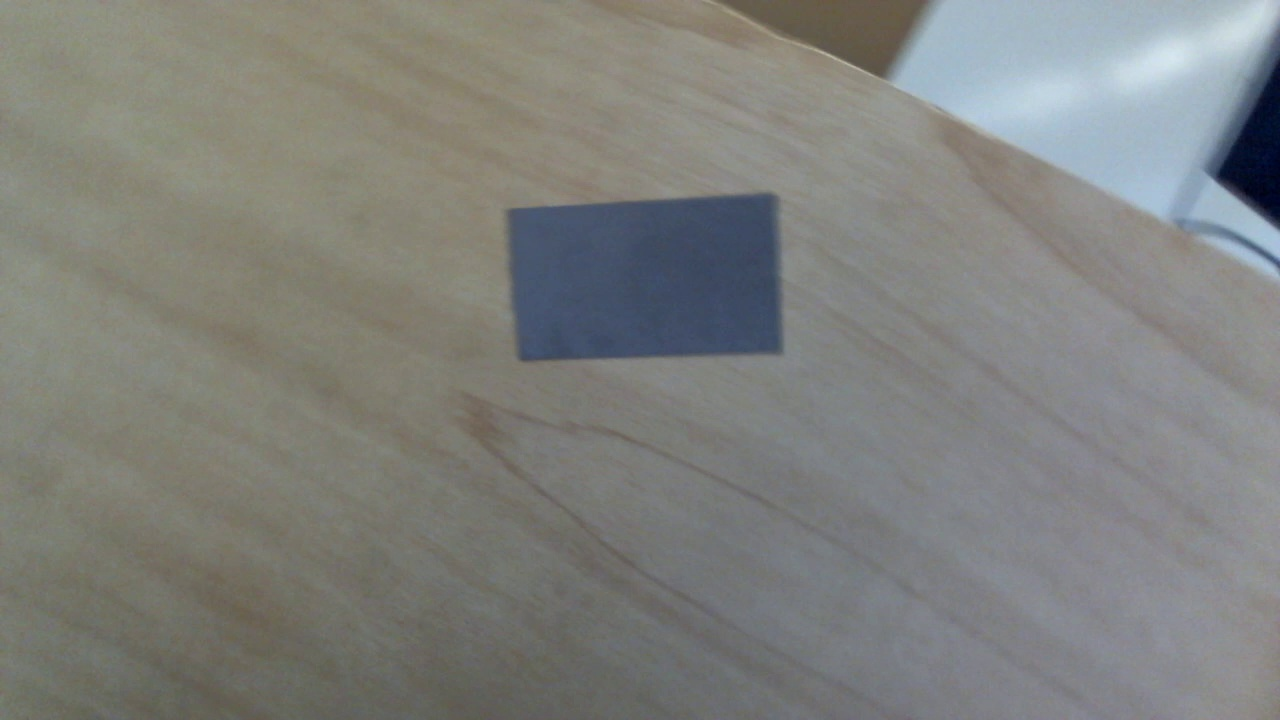Tape: (506, 192, 787, 364)
